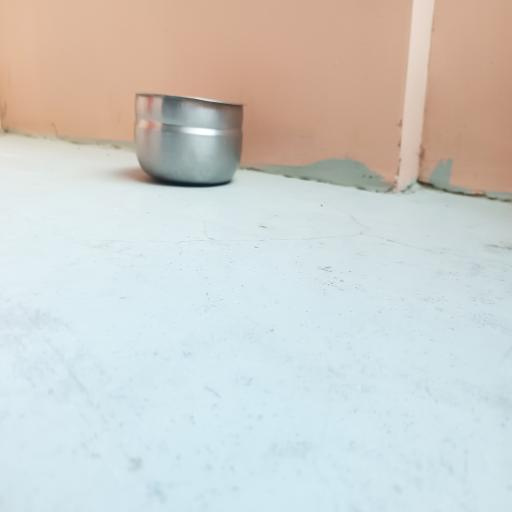vessel: (135, 93, 243, 184)
